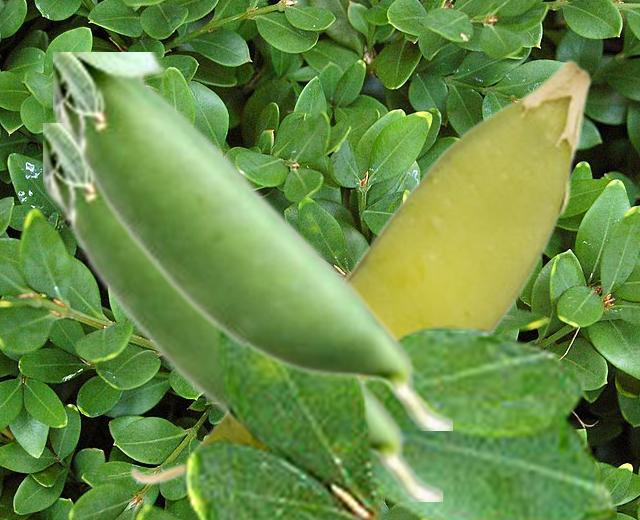pea: (129, 59, 591, 489), (43, 123, 441, 500), (53, 52, 451, 429)
